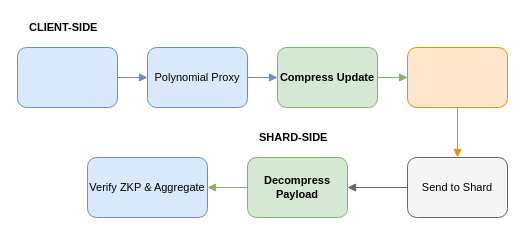
Some shapes in this 525 by 235 pixel diagram are drawn without their labels. Here are the shapes that lost their labels. From the top down, the centre of each, then its label:
At point (67, 77): "Compute & Clip".
At point (457, 77): "Commitment (SHA-256)".
